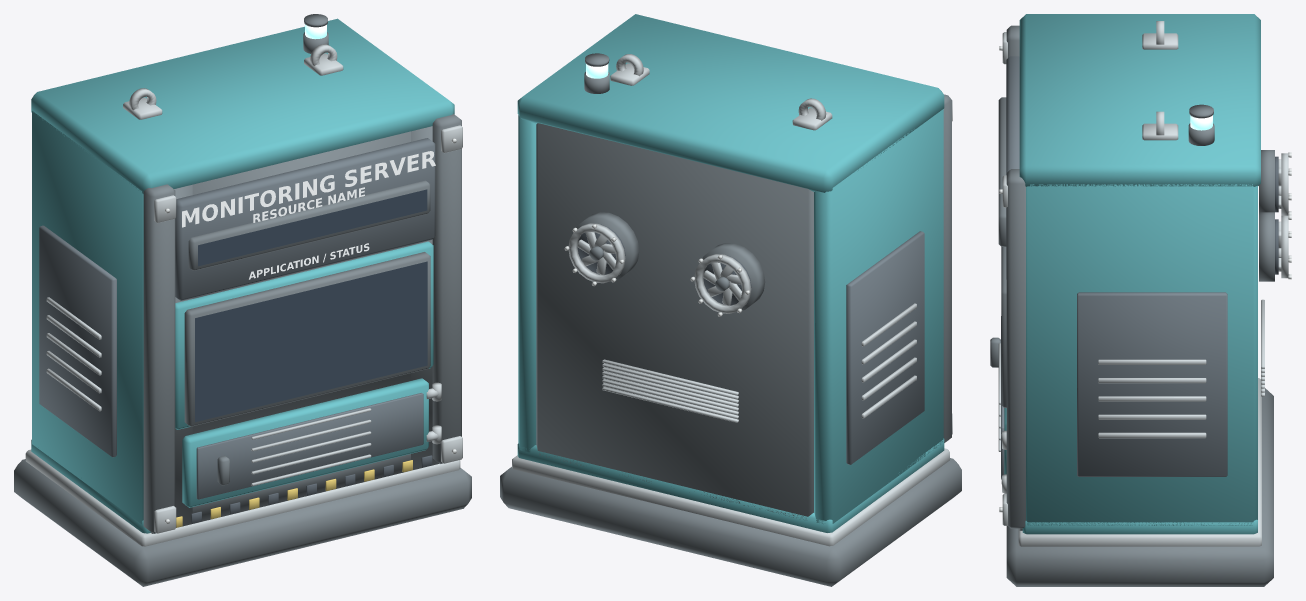
File: monitoring_server_standard.glb
3 renders of one model, left to right at view 1: azimuth 30°, elevation 25°; view 2: azimuth 150°, elevation 25°; view 3: azimuth 270°, elevation 25°, orthographic. The views are drawn at different scales.
Visible parts, largest first — view 1: Roof_teal, LiveViewSurface_glass, SideWall_teal, CornerPost_frame, Skid_frame, FrontHeader_graphite, SideServicePanel_graphite, DoorMoving_Inset_graphite, DoorMoving_Panel_teal, SkidDeck_steel, LiveViewSurfaceFrame_frame, ResourceNameSurface_glass (+15 smaller); view 2: BackWall_frame, Roof_teal, SideWall_teal, Skid_frame, SideServicePanel_graphite, SkidDeck_steel, KickPlate_teal, RearFan_steel, RearVent_steel, CornerPost_frame, RearFan_frame, SideLouver_steel (+3 smaller); view 3: SideWall_teal, Roof_teal, SideServicePanel_graphite, Skid_frame, CornerPost_frame, SkidDeck_steel, SideLouver_steel, KickPlate_teal, RearFan_frame, FrontHeader_graphite, RearFan_steel, ResourceNameSurfaceFrame_frame (+6 smaller).
Part boxes in pixels (x1,y1,x2,y2): Roof_teal: [31, 18, 454, 193]; LiveViewSurface_glass: [195, 261, 427, 422]; SideWall_teal: [32, 111, 143, 524]; CornerPost_frame: [143, 114, 461, 533]; Skid_frame: [14, 459, 471, 586]; FrontHeader_graphite: [175, 138, 435, 300]; SideServicePanel_graphite: [39, 225, 116, 457]; DoorMoving_Inset_graphite: [196, 393, 423, 499]; DoorMoving_Panel_teal: [182, 378, 428, 507]; SkidDeck_steel: [25, 449, 460, 546]; LiveViewSurfaceFrame_frame: [184, 252, 430, 426]; ResourceNameSurface_glass: [198, 189, 427, 266]; BackWall_frame: [536, 123, 813, 519]; Roof_teal: [517, 14, 944, 192]; SideWall_teal: [518, 109, 943, 523]; Skid_frame: [500, 458, 961, 586]; SideServicePanel_graphite: [846, 231, 924, 464]; SkidDeck_steel: [512, 448, 949, 546]; KickPlate_teal: [517, 438, 944, 532]; RearFan_steel: [568, 223, 751, 313]; RearVent_steel: [602, 359, 738, 422]; CornerPost_frame: [943, 94, 951, 442]; RearFan_frame: [576, 212, 765, 312]; SideLouver_steel: [861, 303, 916, 418]; SideWall_teal: [1026, 184, 1257, 525]; Roof_teal: [1019, 14, 1260, 186]; SideServicePanel_graphite: [1077, 292, 1227, 476]; Skid_frame: [1006, 388, 1273, 586]; CornerPost_frame: [1006, 25, 1025, 528]; SkidDeck_steel: [1018, 378, 1261, 546]; SideLouver_steel: [1098, 359, 1206, 438]; KickPlate_teal: [1022, 519, 1257, 534]; RearFan_frame: [1259, 150, 1274, 281]; FrontHeader_graphite: [1006, 56, 1019, 279]; RearFan_steel: [1278, 153, 1288, 278]; ResourceNameSurfaceFrame_frame: [998, 97, 1006, 246].
Bounding box in the file's own units: 2 × 2.48 × 1.51.
